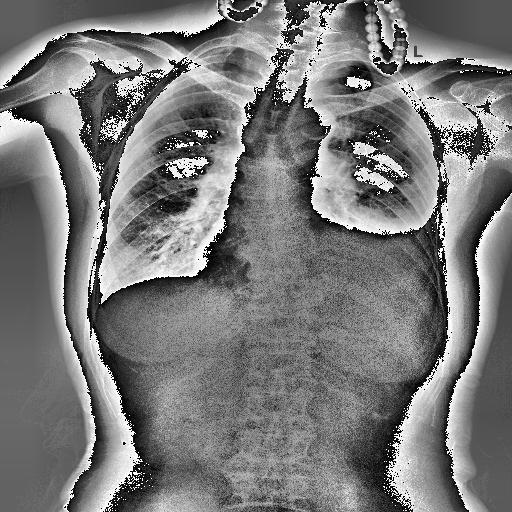0- Aortic enlargement: (288, 106, 338, 152), (291, 108, 336, 139)
10- Pleural effusion: (290, 202, 440, 290), (322, 196, 442, 288), (336, 202, 440, 296)
